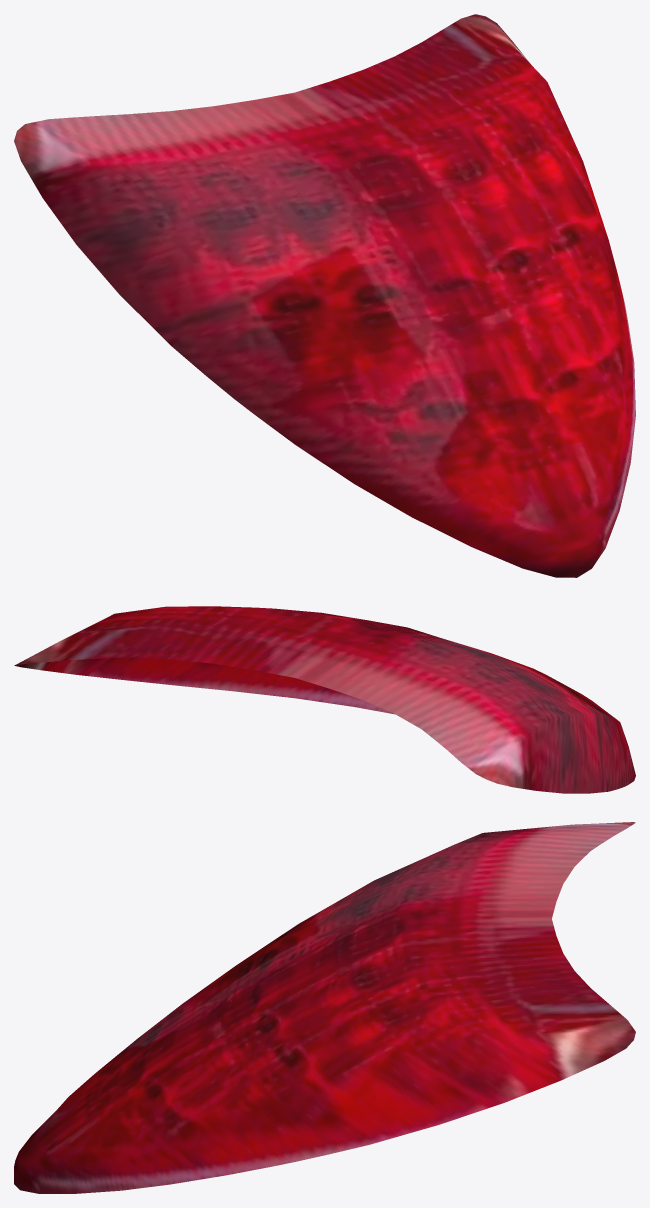
The model's file is BrakeLight_RED.glb.
3 views of the same model, one above another, from view 1: azimuth 30°, elevation 25°; view 2: azimuth 150°, elevation 25°; view 3: azimuth 270°, elevation 25° (orthographic). The views are drawn at different scales.
Visible parts, largest first — view 1: BrakeLight_RED; view 2: BrakeLight_RED; view 3: BrakeLight_RED.
Part boxes in pixels (left/top/right/bottom): BrakeLight_RED: left=14, top=14, right=635, bottom=577; BrakeLight_RED: left=14, top=606, right=635, bottom=793; BrakeLight_RED: left=14, top=822, right=635, bottom=1193.
Bounding box in the file's own units: 0.1748 × 0.0943 × 0.2004.
Materials: 1 (1 with a texture image).
